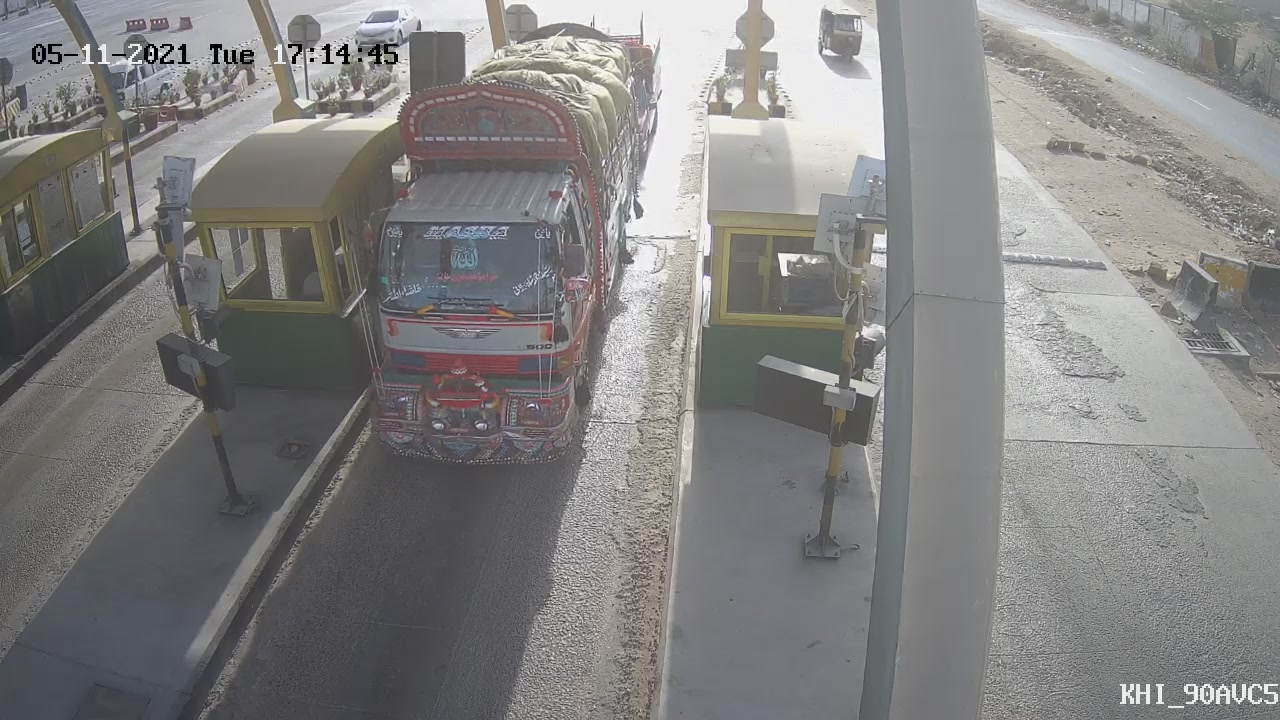F5: (307, 14, 687, 492)
